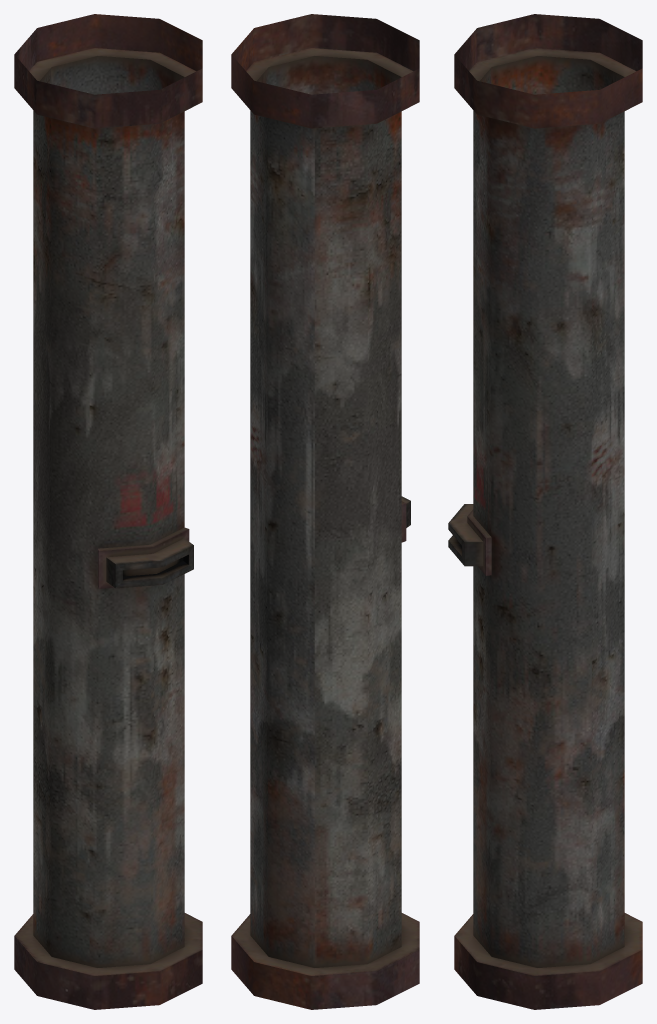
The model's file is ThickPipe_02.FBX.
3 views of the same model, side by side, from view 1: azimuth 30°, elevation 25°; view 2: azimuth 150°, elevation 25°; view 3: azimuth 270°, elevation 25° (orthographic).
Visible parts, largest first — view 1: ThickPipe_02; view 2: ThickPipe_02; view 3: ThickPipe_02.
Boxes of the visible parts, <box> form: ThickPipe_02: <box>14,14,202,1009</box>; ThickPipe_02: <box>231,14,419,1009</box>; ThickPipe_02: <box>448,14,642,1009</box>.
Size of the model in its own units: 59 by 312 by 59.95.
